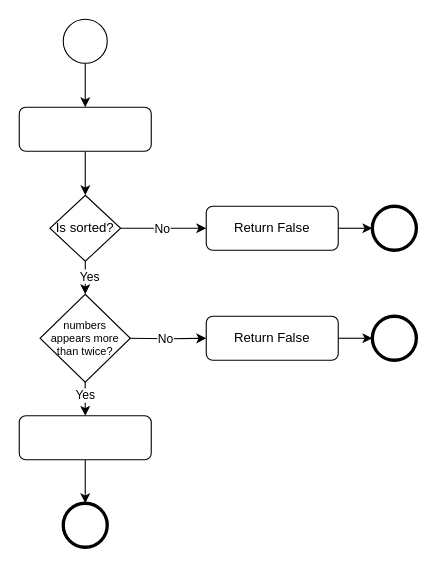
The diagram is 437 pixels wide and 568 high, and some of its shapes have lost their labels. Here are the shapes that lost their labels. From the top down, the box of each, then its label:
(18, 106, 151, 151): Receive a list of integers
(18, 415, 151, 460): Return True
